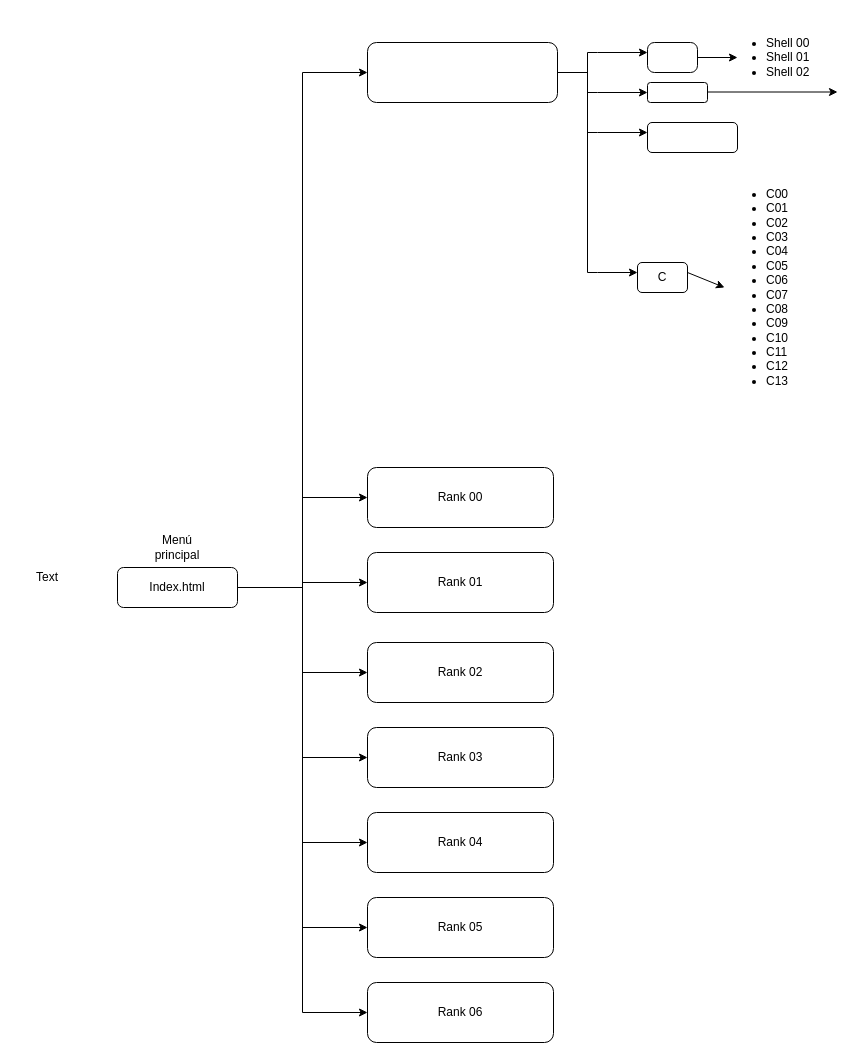
Some shapes in this 863 by 1060 pixel diagram are drawn without their labels. Each missing label, with the centre of its shape:
Exams: the point at 692,137
Piscina: the point at 462,72
RUSH: the point at 677,92
Shell: the point at 672,57
